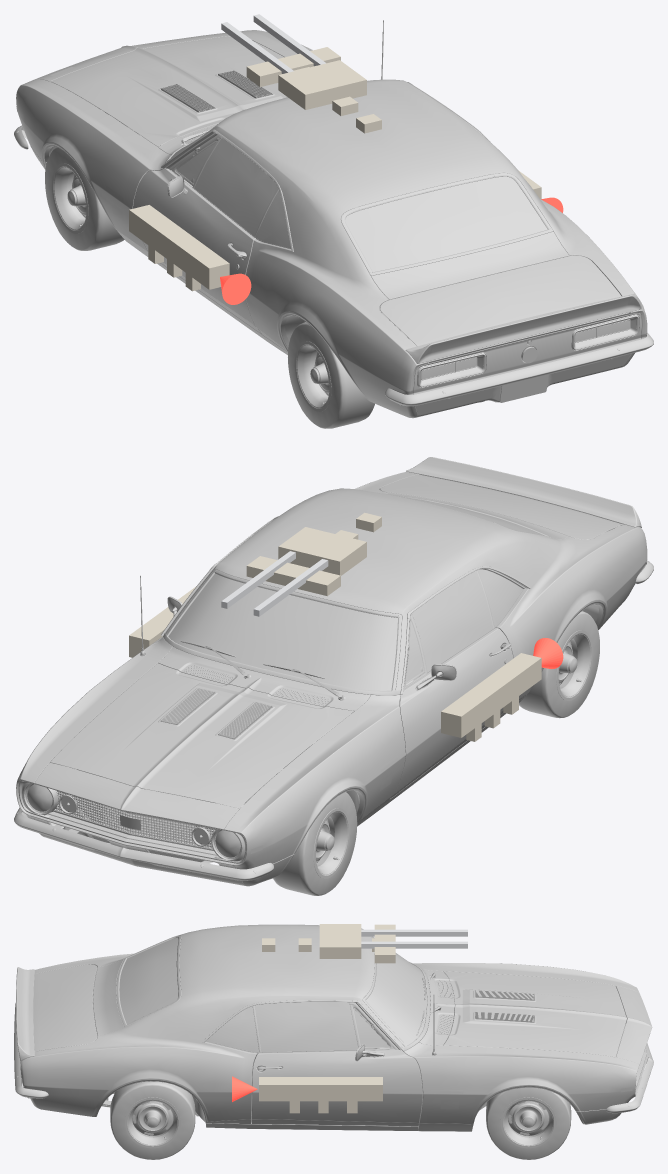
File: marrow.glb
3 renders of one model, top to bottom at view 1: azimuth 30°, elevation 25°; view 2: azimuth 150°, elevation 25°; view 3: azimuth 270°, elevation 25°, orthographic. The views are drawn at different scales.
Parts seen in each view (by area): view 1: marrow, marrow_RocketL, marrow_GunMount, marrow_Brow, marrow_RocketTipL, marrow_GunR, marrow_GunL; view 2: marrow, marrow_RocketL, marrow_GunMount, marrow_Brow, marrow_RocketR, marrow_GunL, marrow_GunR, marrow_RocketTipL; view 3: marrow, marrow_RocketR, marrow_GunMount, marrow_GunL, marrow_GunR, marrow_Brow.
Part boxes in pixels (x1,y1,x2,y2): marrow: [14, 20, 653, 428]; marrow_RocketL: [129, 205, 229, 289]; marrow_GunMount: [278, 60, 366, 109]; marrow_Brow: [246, 47, 340, 86]; marrow_RocketTipL: [220, 273, 251, 304]; marrow_GunR: [253, 14, 325, 66]; marrow_GunL: [221, 22, 293, 73]; marrow: [14, 457, 653, 895]; marrow_RocketL: [441, 653, 541, 737]; marrow_GunMount: [278, 527, 366, 575]; marrow_Brow: [246, 556, 340, 596]; marrow_RocketR: [129, 586, 196, 657]; marrow_GunL: [253, 559, 328, 616]; marrow_GunR: [221, 551, 295, 608]; marrow_RocketTipL: [533, 638, 563, 669]; marrow: [14, 924, 653, 1159]; marrow_RocketR: [259, 1077, 382, 1101]; marrow_GunMount: [319, 924, 361, 958]; marrow_GunL: [361, 929, 467, 936]; marrow_GunR: [361, 941, 467, 948]; marrow_Brow: [374, 924, 395, 963].
Size of the model in its own units: 2.33 by 1.49 by 4.9.
